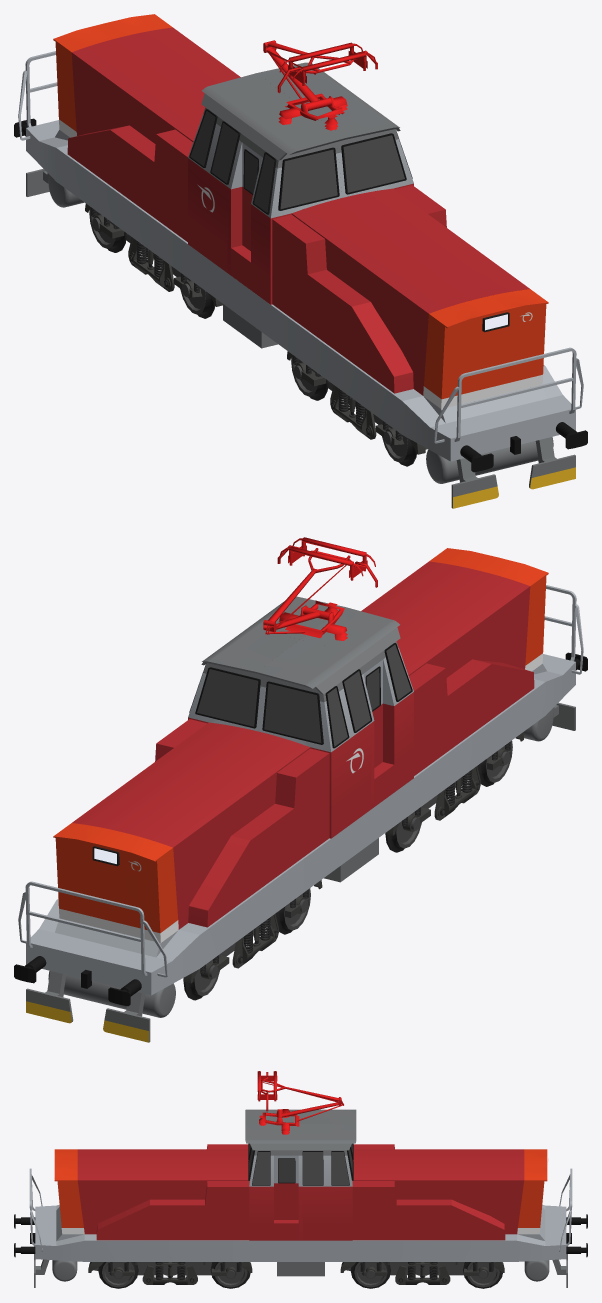
The model's file is lok210.glb.
3 renders of one model, top to bottom at view 1: azimuth 30°, elevation 25°; view 2: azimuth 150°, elevation 25°; view 3: azimuth 270°, elevation 25°, orthographic. The views are drawn at different scales.
Visible parts, largest first — view 1: Cube.069, Plane.003, 380 details.034, DB218_Chassis_Boggies.143, DB218_Chassis_Boggies.142, 380 details.035; view 2: Cube.069, Plane.003, 380 details.034, DB218_Chassis_Boggies.142, DB218_Chassis_Boggies.143, 380 details.035; view 3: Cube.069, DB218_Chassis_Boggies.142, DB218_Chassis_Boggies.143, Plane.003, 380 details.034, 380 details.035.
Boxes of the visible parts, x1,y1,x2,y2 form: Cube.069: [18, 14, 583, 508]; Plane.003: [189, 109, 412, 214]; 380 details.034: [263, 40, 377, 130]; DB218_Chassis_Boggies.143: [287, 351, 427, 466]; DB218_Chassis_Boggies.142: [85, 203, 222, 318]; 380 details.035: [14, 118, 587, 472]; Cube.069: [18, 548, 583, 1042]; Plane.003: [189, 643, 412, 748]; 380 details.034: [263, 537, 377, 640]; DB218_Chassis_Boggies.142: [183, 880, 322, 1000]; DB218_Chassis_Boggies.143: [385, 732, 523, 852]; 380 details.035: [14, 652, 587, 1006]; Cube.069: [29, 1109, 572, 1287]; DB218_Chassis_Boggies.142: [340, 1262, 504, 1288]; DB218_Chassis_Boggies.143: [88, 1262, 252, 1288]; Plane.003: [248, 1143, 353, 1185]; 380 details.034: [257, 1071, 343, 1134]; 380 details.035: [14, 1214, 587, 1257].
Size of the model in its own units: 2.47 by 4.94 by 13.25.
Materials: 15 (1 with a texture image).
